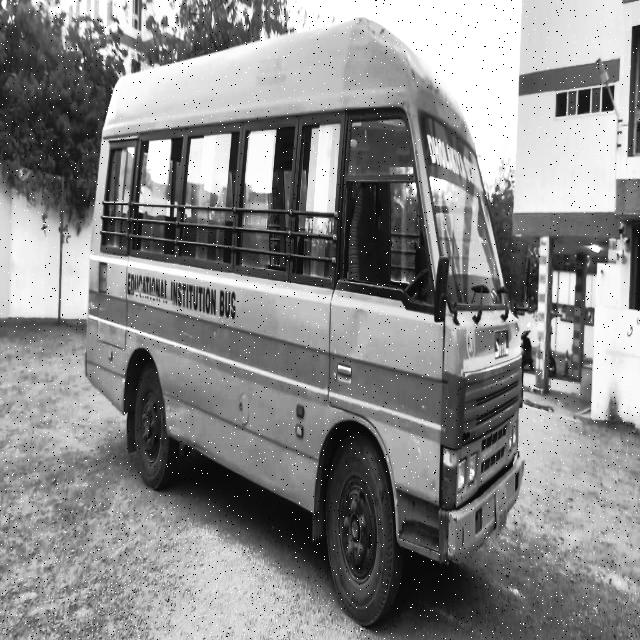Bus: (86, 40, 537, 633)
